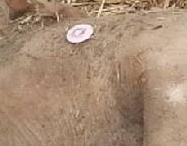text: (59, 18, 100, 50)
